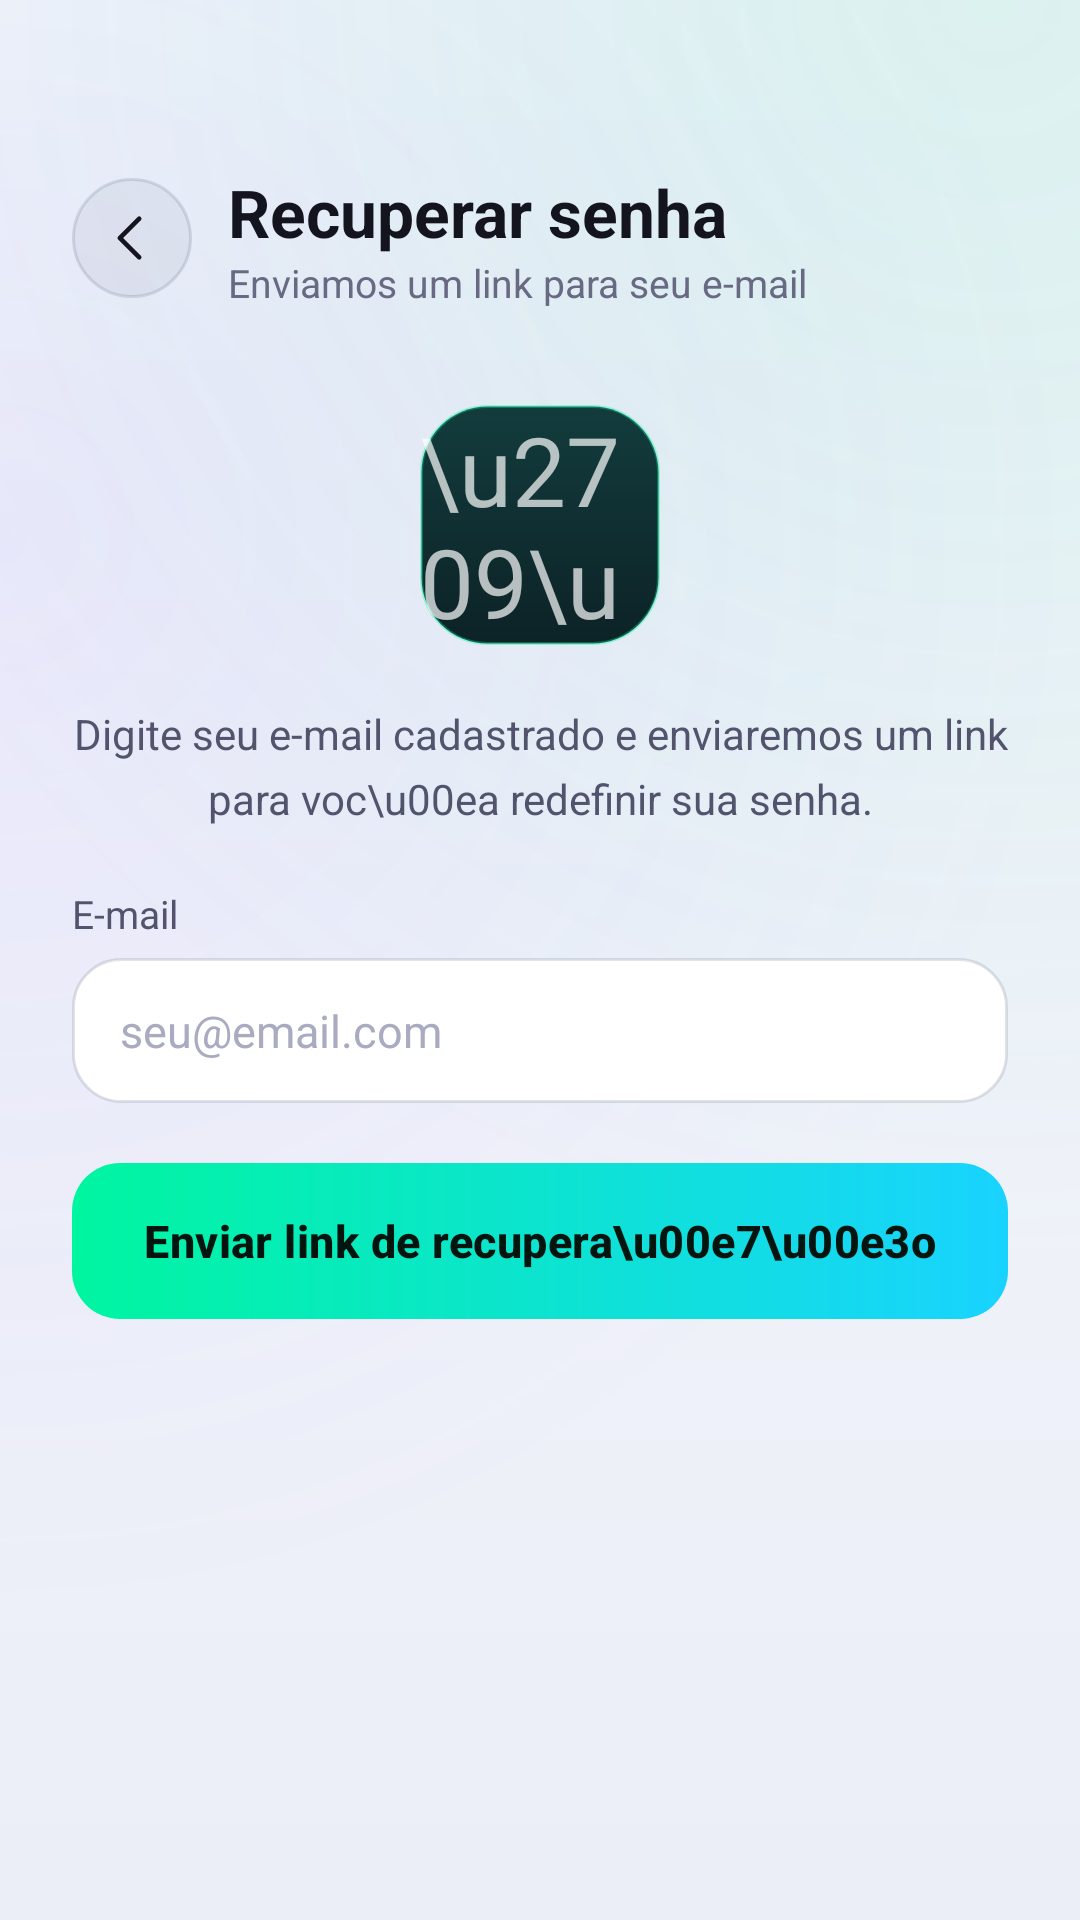

Point at icon controls on the screen. Image size 1080px x 1920px, points as point (x, y).
back: point (132, 238)
